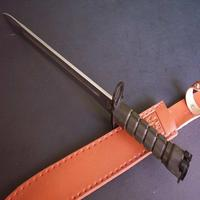knife: (1, 9, 190, 173)
